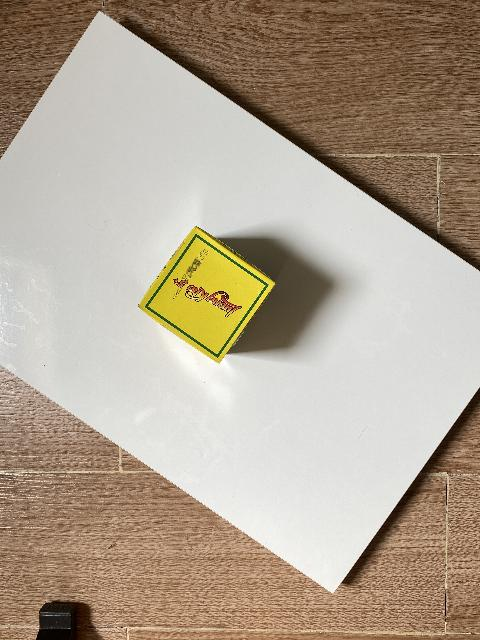luong_kho: (137, 226, 276, 364)
